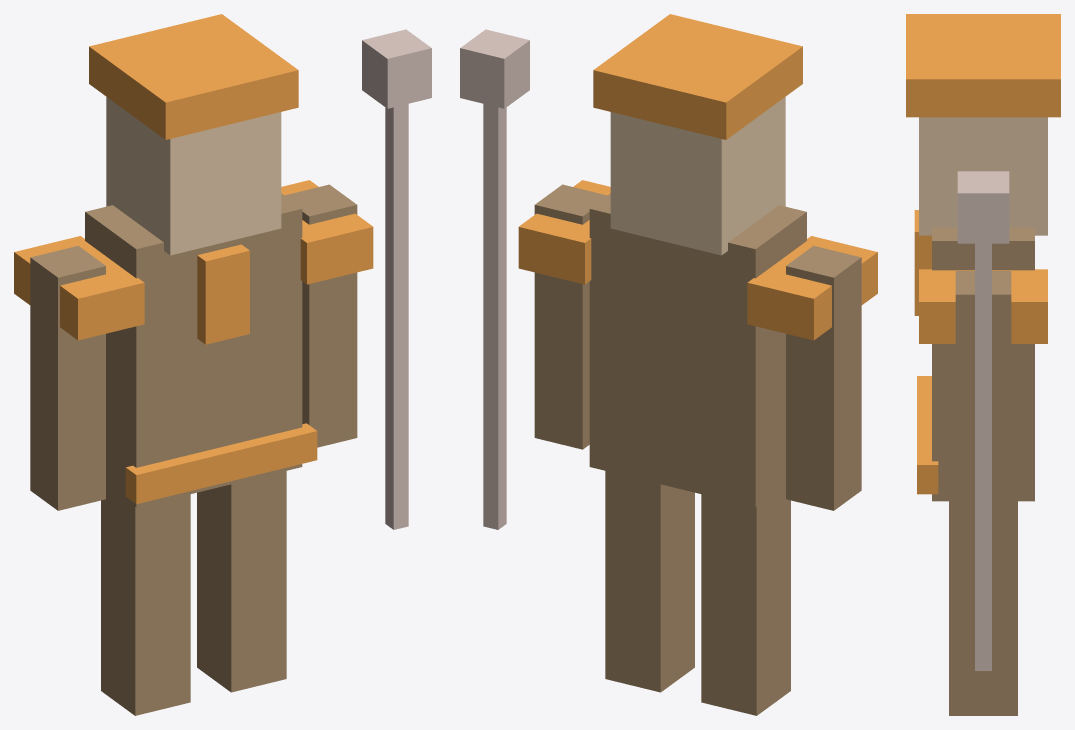
The model's file is 16_orin_chromabell_ranger_from_stanza.glb.
The picture shows the model from 3 angles, left to right: view 1: azimuth 30°, elevation 25°; view 2: azimuth 150°, elevation 25°; view 3: azimuth 270°, elevation 25°; orthographic projection.
Parts seen in each view (by area): view 1: Orin Chromabell, Ranger from Stanza; view 2: Orin Chromabell, Ranger from Stanza; view 3: Orin Chromabell, Ranger from Stanza.
Boxes of the visible parts, box(x1,y1,x2,y2) form: Orin Chromabell, Ranger from Stanza: box(14, 14, 431, 715); Orin Chromabell, Ranger from Stanza: box(460, 14, 877, 715); Orin Chromabell, Ranger from Stanza: box(906, 14, 1060, 715).
Bounding box in the file's own units: 1.01 × 1.61 × 0.3575.
